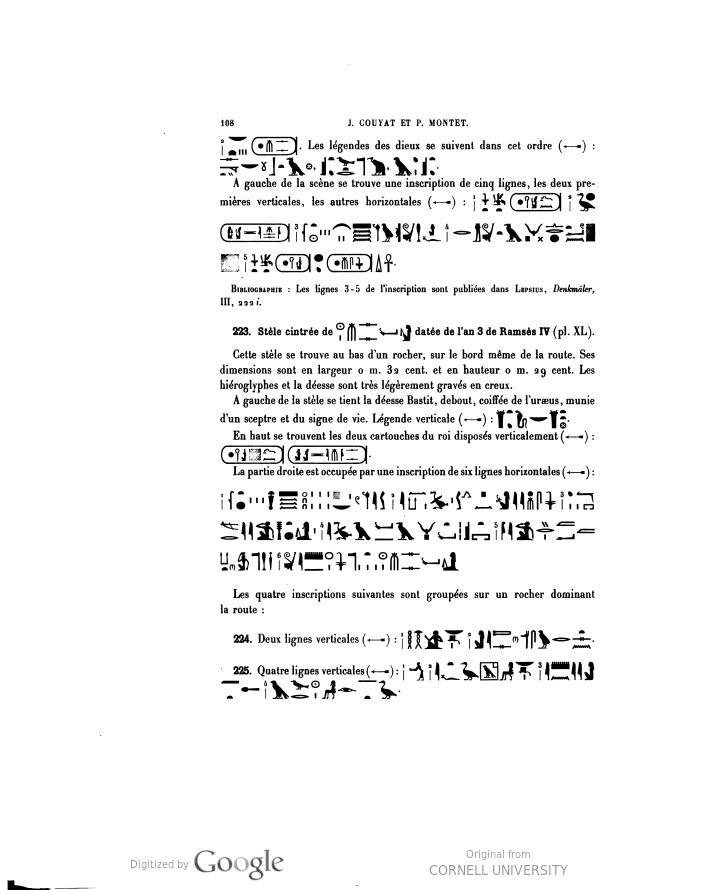circle: (237, 123, 316, 172), (283, 437, 376, 472), (216, 215, 295, 251), (219, 442, 288, 471), (319, 250, 388, 277), (505, 187, 571, 214), (269, 246, 315, 275)
